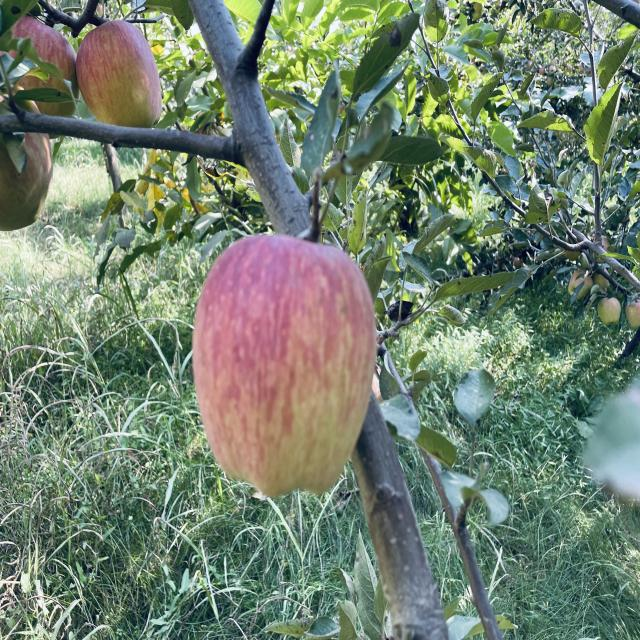Apple: (192, 235, 376, 495), (76, 20, 161, 128), (11, 15, 79, 97), (0, 133, 52, 230), (19, 77, 68, 92), (598, 297, 621, 325), (36, 102, 75, 117)
